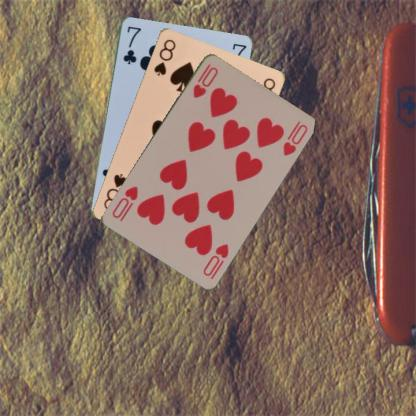10h: (190, 61, 220, 99), (200, 240, 230, 278)
7c: (120, 24, 142, 65)
8s: (151, 36, 177, 77)
